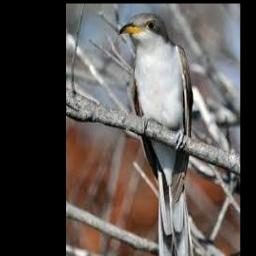Cuckoo: (119, 13, 194, 256)
